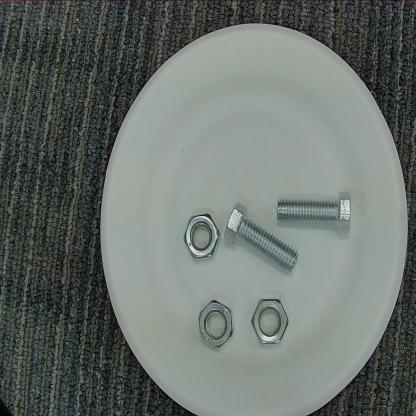FOD: (221, 203, 303, 277), (279, 181, 355, 238), (181, 209, 222, 264), (250, 294, 288, 352), (198, 297, 235, 352)
